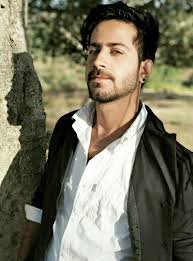noMask: (74, 3, 163, 111)
